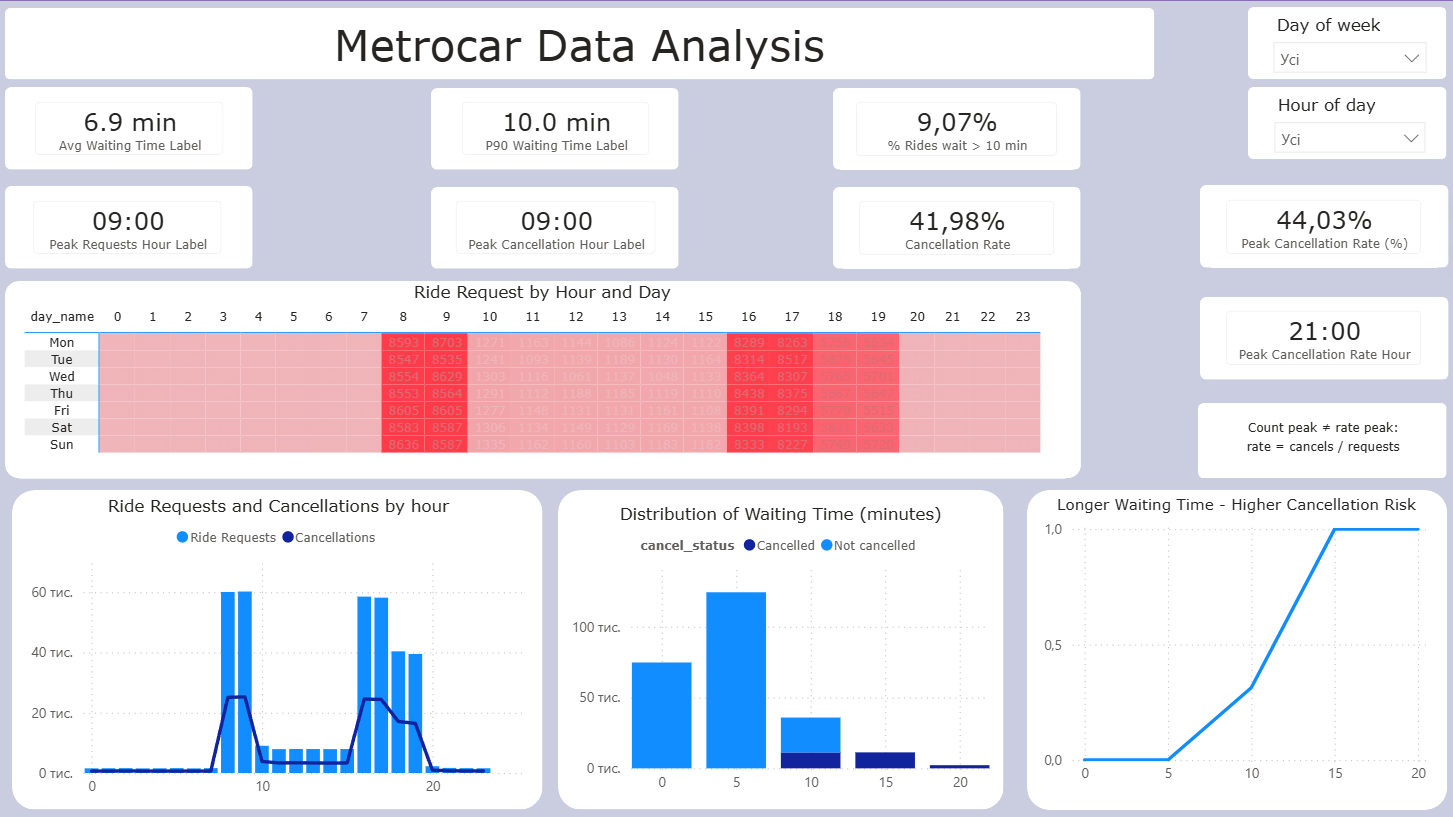

Layout of this report page (visuals, bound fields, positions):
{"tool":"powerbi","page":{"name":"MAIN_2","canvas":[1280,720],"ordinal":4},"visuals":[{"type":"slicer","fields":{"Values":["dim_age.age_range"]},"box":[1126.4,73.6,153.3,68.6],"z":0},{"type":"slicer","fields":{"Values":["dim_platform.platform"]},"box":[1127.6,0,152.1,70.5],"z":1000},{"type":"columnChart","title":"Сompleted Rides by Platform","fields":{"Category":["13_Platforms_CompletedRides.platform"],"Y":["Sum(13_Platforms_CompletedRides.completed_rides)"]},"box":[644.3,492.1,274,227.5],"z":2000},{"type":"barChart","title":"Users who Complited a Ride by Age Group","fields":{"Category":["16_AvgRides_perUser_byAge.age_range"],"Y":["Sum(15_Age_Rides.users_who_completed_ride)"]},"box":[930.4,492.1,350.1,227.5],"z":3000},{"type":"donutChart","title":"Signups by Platform","fields":{"Category":["17_SignupsByAge&Platform.platform"],"Y":["Sum(17_SignupsByAge&Platform.users)"]},"box":[0,492.1,309.7,227.5],"z":4000},{"type":"donutChart","title":"Signups by Age","fields":{"Y":["Sum(17_SignupsByAge&Platform.users)"],"Category":["14_Age_Signups.age_range"]},"box":[321.8,492.8,309.7,226.9],"z":5000},{"type":"textbox","box":[1.3,0,1114.1,68.9],"z":6000},{"type":"lineChart","title":"Ride Requests & Cancelations by Hour","fields":{"Category":["dim_hour.hour_of_day"],"Y":["Sum(09_hourRequests.ride_requests)","Sum(10_hourCancellations.cancellations)"]},"box":[0,73.4,361.5,240.3],"z":7000},{"type":"slicer","fields":{"Values":["dim_hour.hour_of_day"]},"box":[1126.4,145.3,153.3,68.6],"z":8000},{"type":"lineChart","title":"Longer Waiting Time - Higher Cancellation Risk","fields":{"Category":["11_waitingCancellations.waiting_time_bin"],"Y":["Avg(11_waitingCancellations.is_cancelled)"]},"box":[757.4,73.4,358.1,240.3],"z":9000},{"type":"columnChart","title":"Distribution of Waiting Time (minutes)","fields":{"Category":["11_waitingCancellations.waiting_time_bin"],"Y":["CountNonNull(11_waitingCancellations.ride_id)"],"Series":["11_waitingCancellations.is_cancelled"]},"box":[370.9,73.4,377.7,240.3],"z":10000},{"type":"pivotTable","title":"Ride Request by Hour and Day","fields":{"Rows":["09_1_DayHourRequests.day_name"],"Columns":["09_1_DayHourRequests.hour_of_day"],"Values":["Sum(09_1_DayHourRequests.ride_requests)"]},"box":[0,323.1,918.3,160.2],"z":10001},{"type":"cardVisual","title":"Cancellation Rate","fields":{"Data":["KPI_Measures.Cancellation Rate"]},"box":[930.4,355.5,185.1,85.5],"z":10002}]}

Visuals, with their boxes in screenshot pixels (x1, y1, x2, y2), scaled from the page's 1280x720 canvas onto the 1453x817 screenshot:
slicer - dim_age.age_range: x1=1279, y1=84, x2=1452, y2=161
slicer - dim_platform.platform: x1=1280, y1=0, x2=1452, y2=80
"Сompleted Rides by Platform" columnChart: x1=731, y1=558, x2=1042, y2=816
"Users who Complited a Ride by Age Group" barChart: x1=1056, y1=558, x2=1452, y2=816
"Signups by Platform" donutChart: x1=0, y1=558, x2=352, y2=816
"Signups by Age" donutChart: x1=365, y1=559, x2=717, y2=816
textbox: x1=1, y1=0, x2=1266, y2=78
"Ride Requests & Cancelations by Hour" lineChart: x1=0, y1=83, x2=410, y2=356
slicer - dim_hour.hour_of_day: x1=1279, y1=165, x2=1452, y2=243
"Longer Waiting Time - Higher Cancellation Risk" lineChart: x1=860, y1=83, x2=1266, y2=356
"Distribution of Waiting Time (minutes)" columnChart: x1=421, y1=83, x2=850, y2=356
"Ride Request by Hour and Day" pivotTable: x1=0, y1=367, x2=1042, y2=548
"Cancellation Rate" cardVisual: x1=1056, y1=403, x2=1266, y2=500
